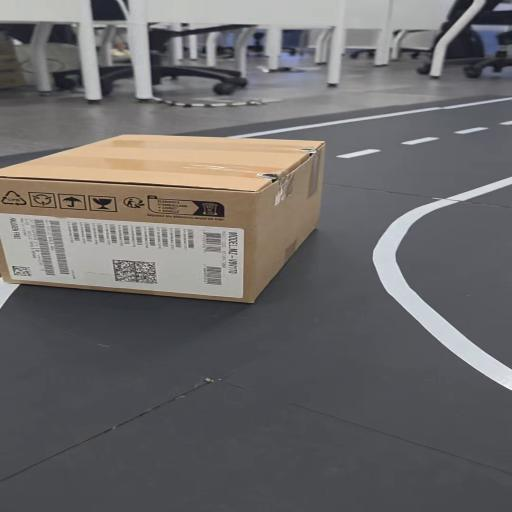Box: (2, 127, 362, 309)
